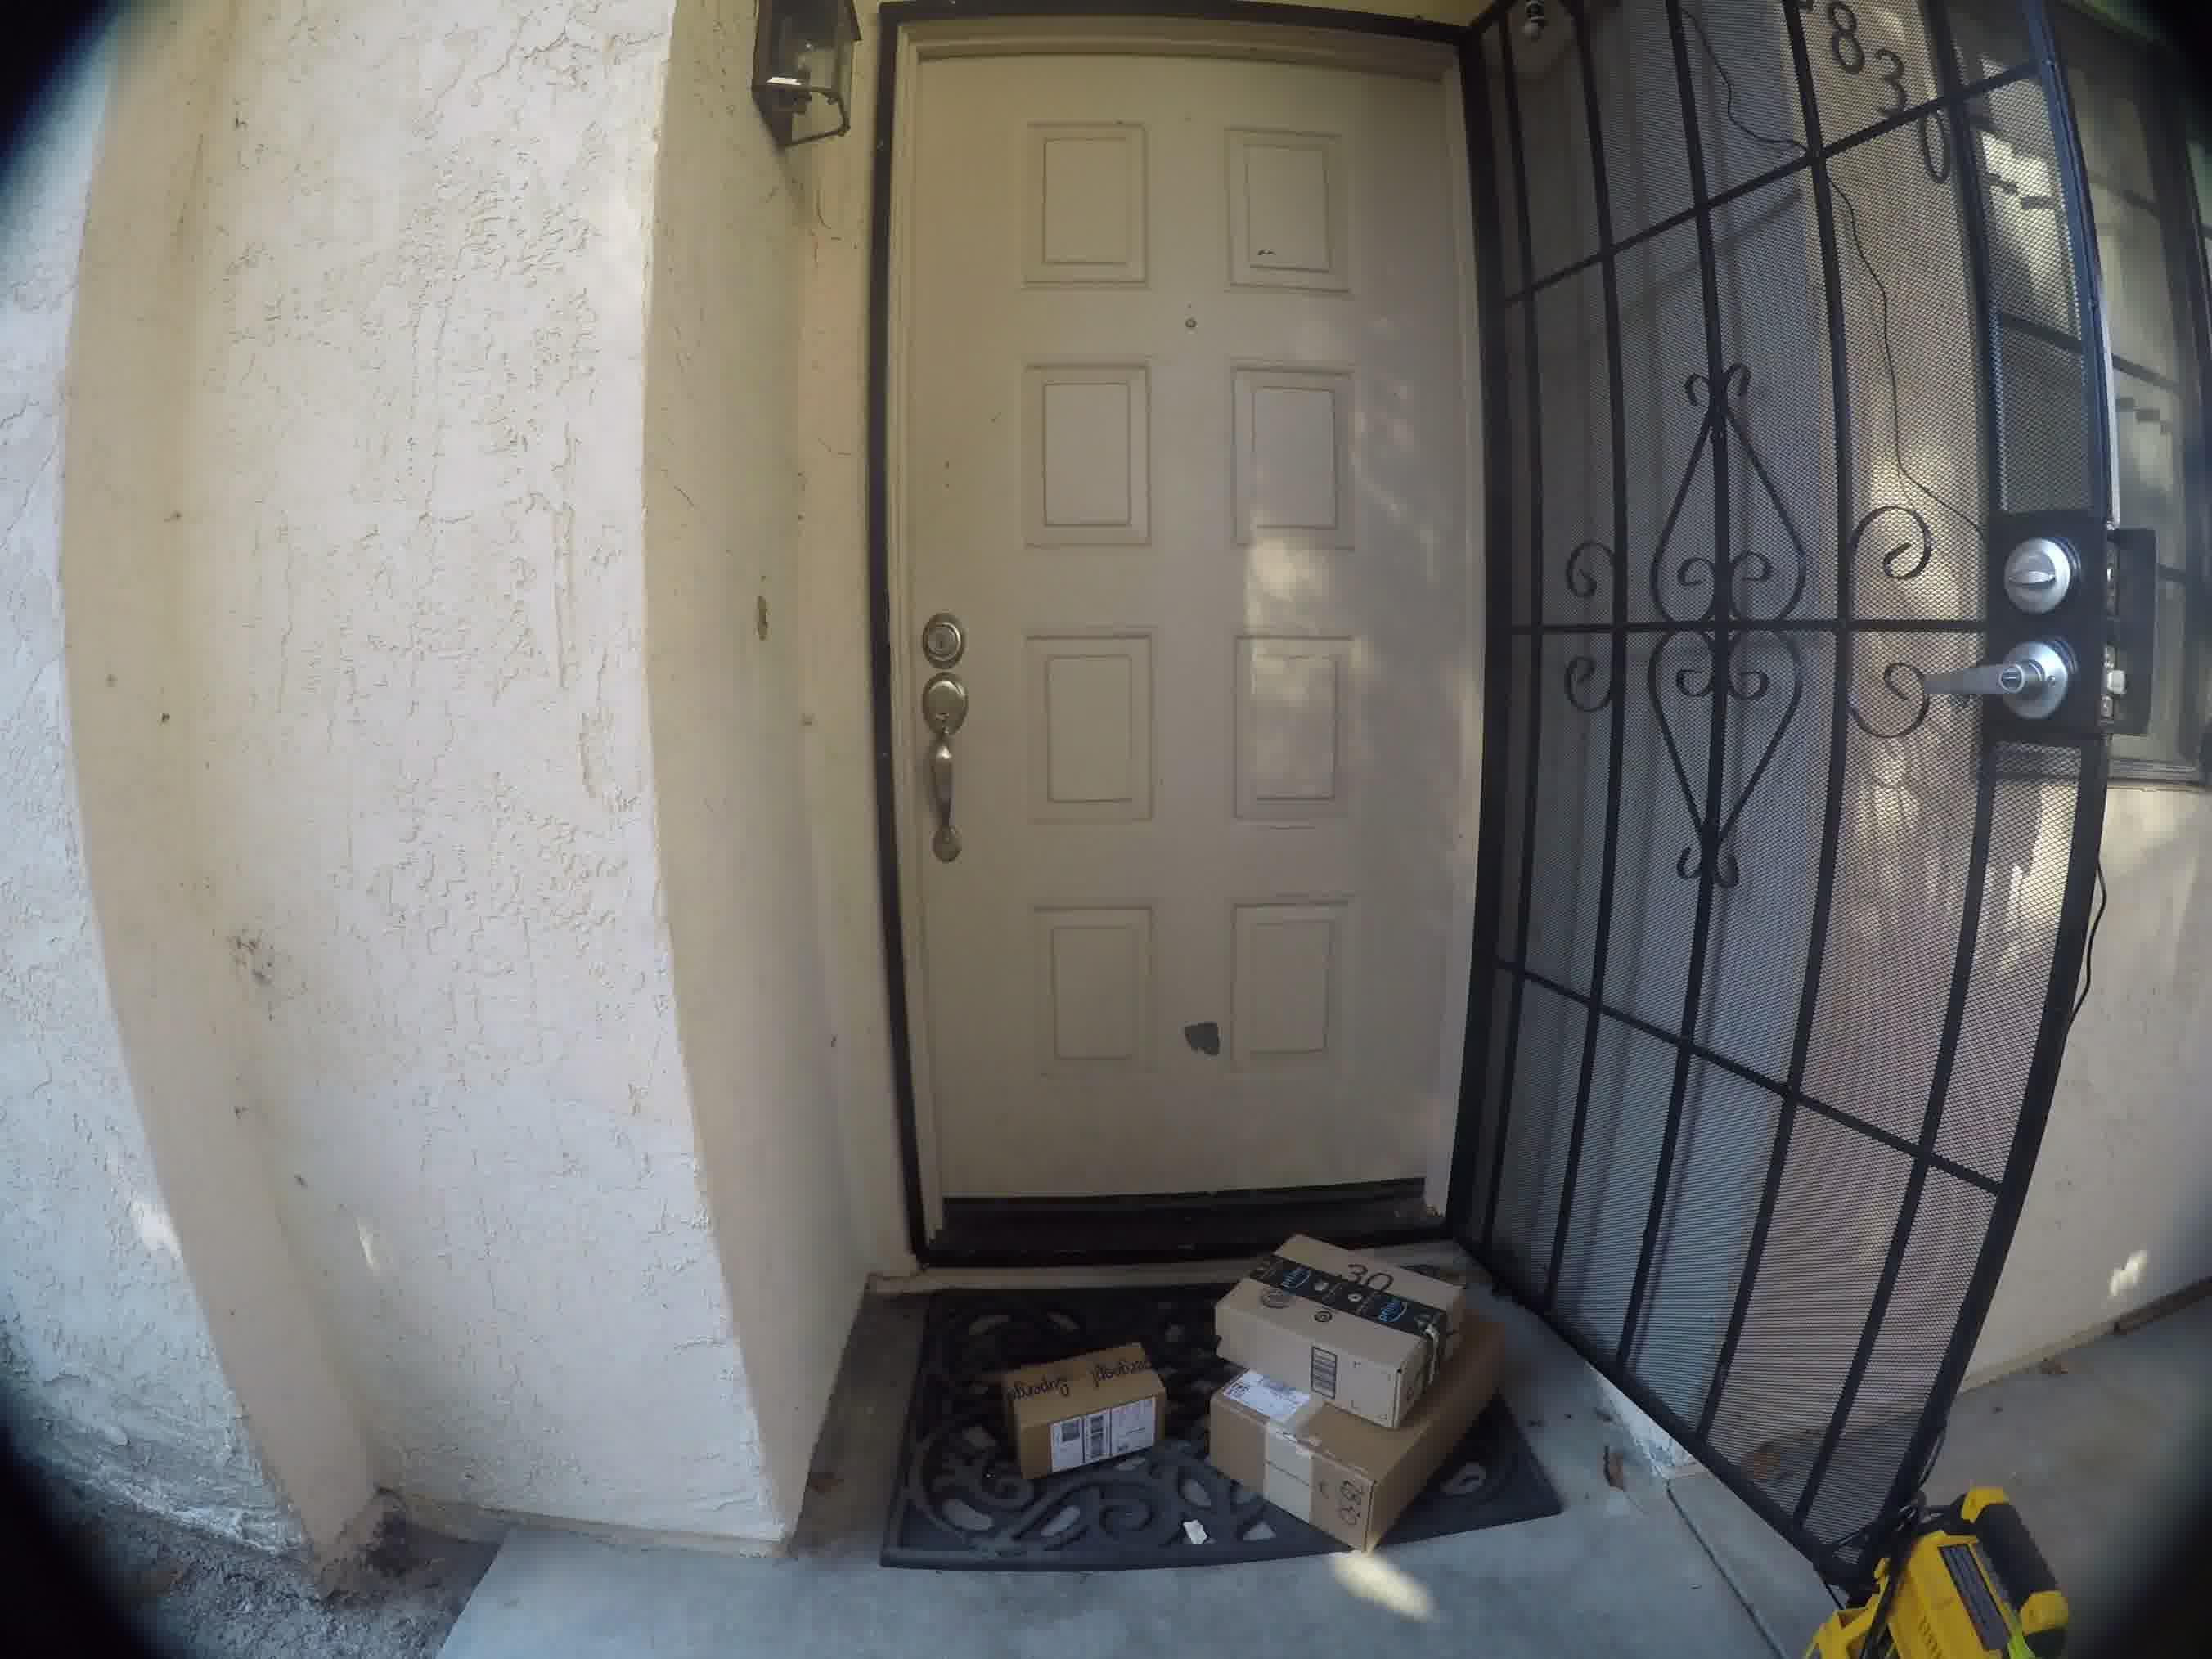box: (1223, 1192, 1482, 1431), (972, 1351, 1170, 1455)
